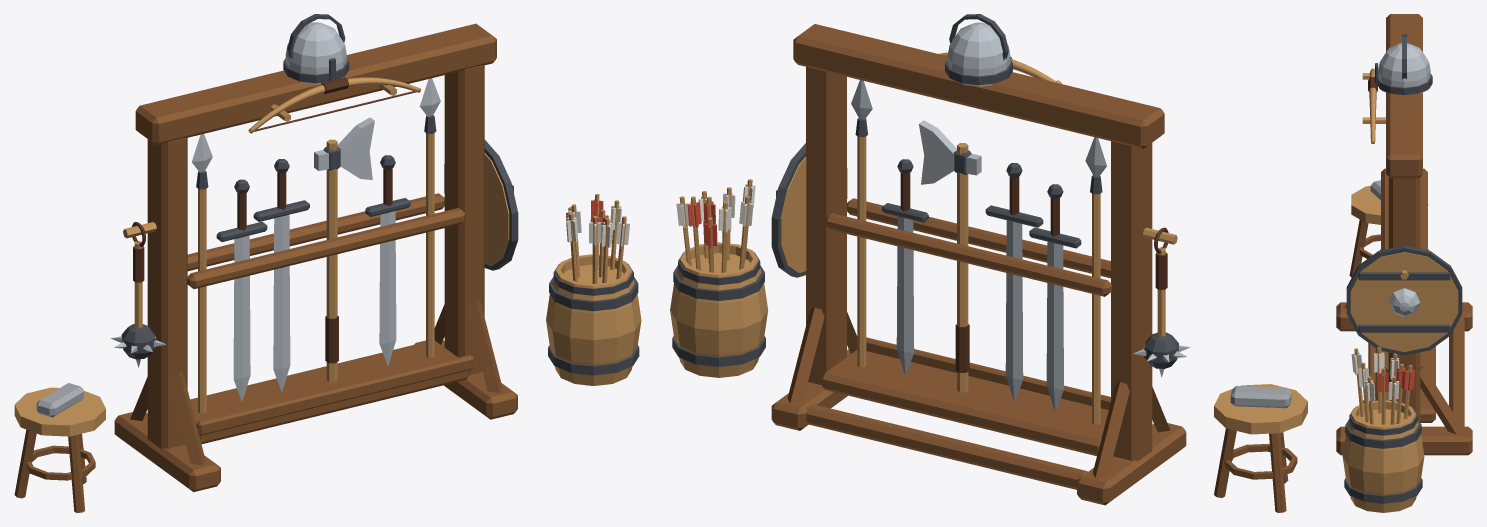
The model's file is medieval-weapon-rack.glb.
The picture shows the model from 3 angles, left to right: view 1: azimuth 30°, elevation 25°; view 2: azimuth 150°, elevation 25°; view 3: azimuth 270°, elevation 25°; orthographic projection. The views are drawn at different scales.
Parts seen in each view (by area): view 1: WeaponRack, ArrowBarrel, Stool_Whetstone, BattleAxe, Sword_2, Helmet, Shield_Round, Sword_1, Sword_3, Spear_2, Spear_1, Mace (+1 smaller); view 2: WeaponRack, ArrowBarrel, Stool_Whetstone, BattleAxe, Sword_2, Helmet, Shield_Round, Sword_1, Sword_3, Spear_2, Spear_1, Mace; view 3: WeaponRack, ArrowBarrel, Shield_Round, Helmet, Stool_Whetstone, Bow.
Part boxes in pixels (x1,y1,x2,y2): WeaponRack: (114,23,517,492); ArrowBarrel: (546,194,641,385); Stool_Whetstone: (14,383,105,512); BattleAxe: (314,117,374,382); Sword_2: (253,159,309,392); Helmet: (283,14,349,84); Shield_Round: (444,139,518,270); Sword_1: (216,179,267,401); Sword_3: (365,155,410,366); Spear_2: (419,78,440,357); Spear_1: (192,134,212,413); Mace: (111,222,166,367); WeaponRack: (771,24,1186,505); ArrowBarrel: (670,179,768,377); Stool_Whetstone: (1214,384,1307,512); BattleAxe: (919,120,981,392); Sword_2: (985,163,1043,402); Helmet: (945,14,1012,86); Shield_Round: (771,143,847,277); Sword_1: (1029,184,1081,412); Sword_3: (882,159,928,375); Spear_2: (851,80,872,367); Spear_1: (1085,137,1106,424); Mace: (1133,227,1189,377); WeaponRack: (1336,14,1472,455); ArrowBarrel: (1342,347,1424,512); Shield_Round: (1346,245,1462,355); Helmet: (1375,34,1432,95); Stool_Whetstone: (1349,180,1380,277); Bow: (1368,68,1377,143).
Size of the model in its own units: 11.53 by 7.4 by 2.6.
